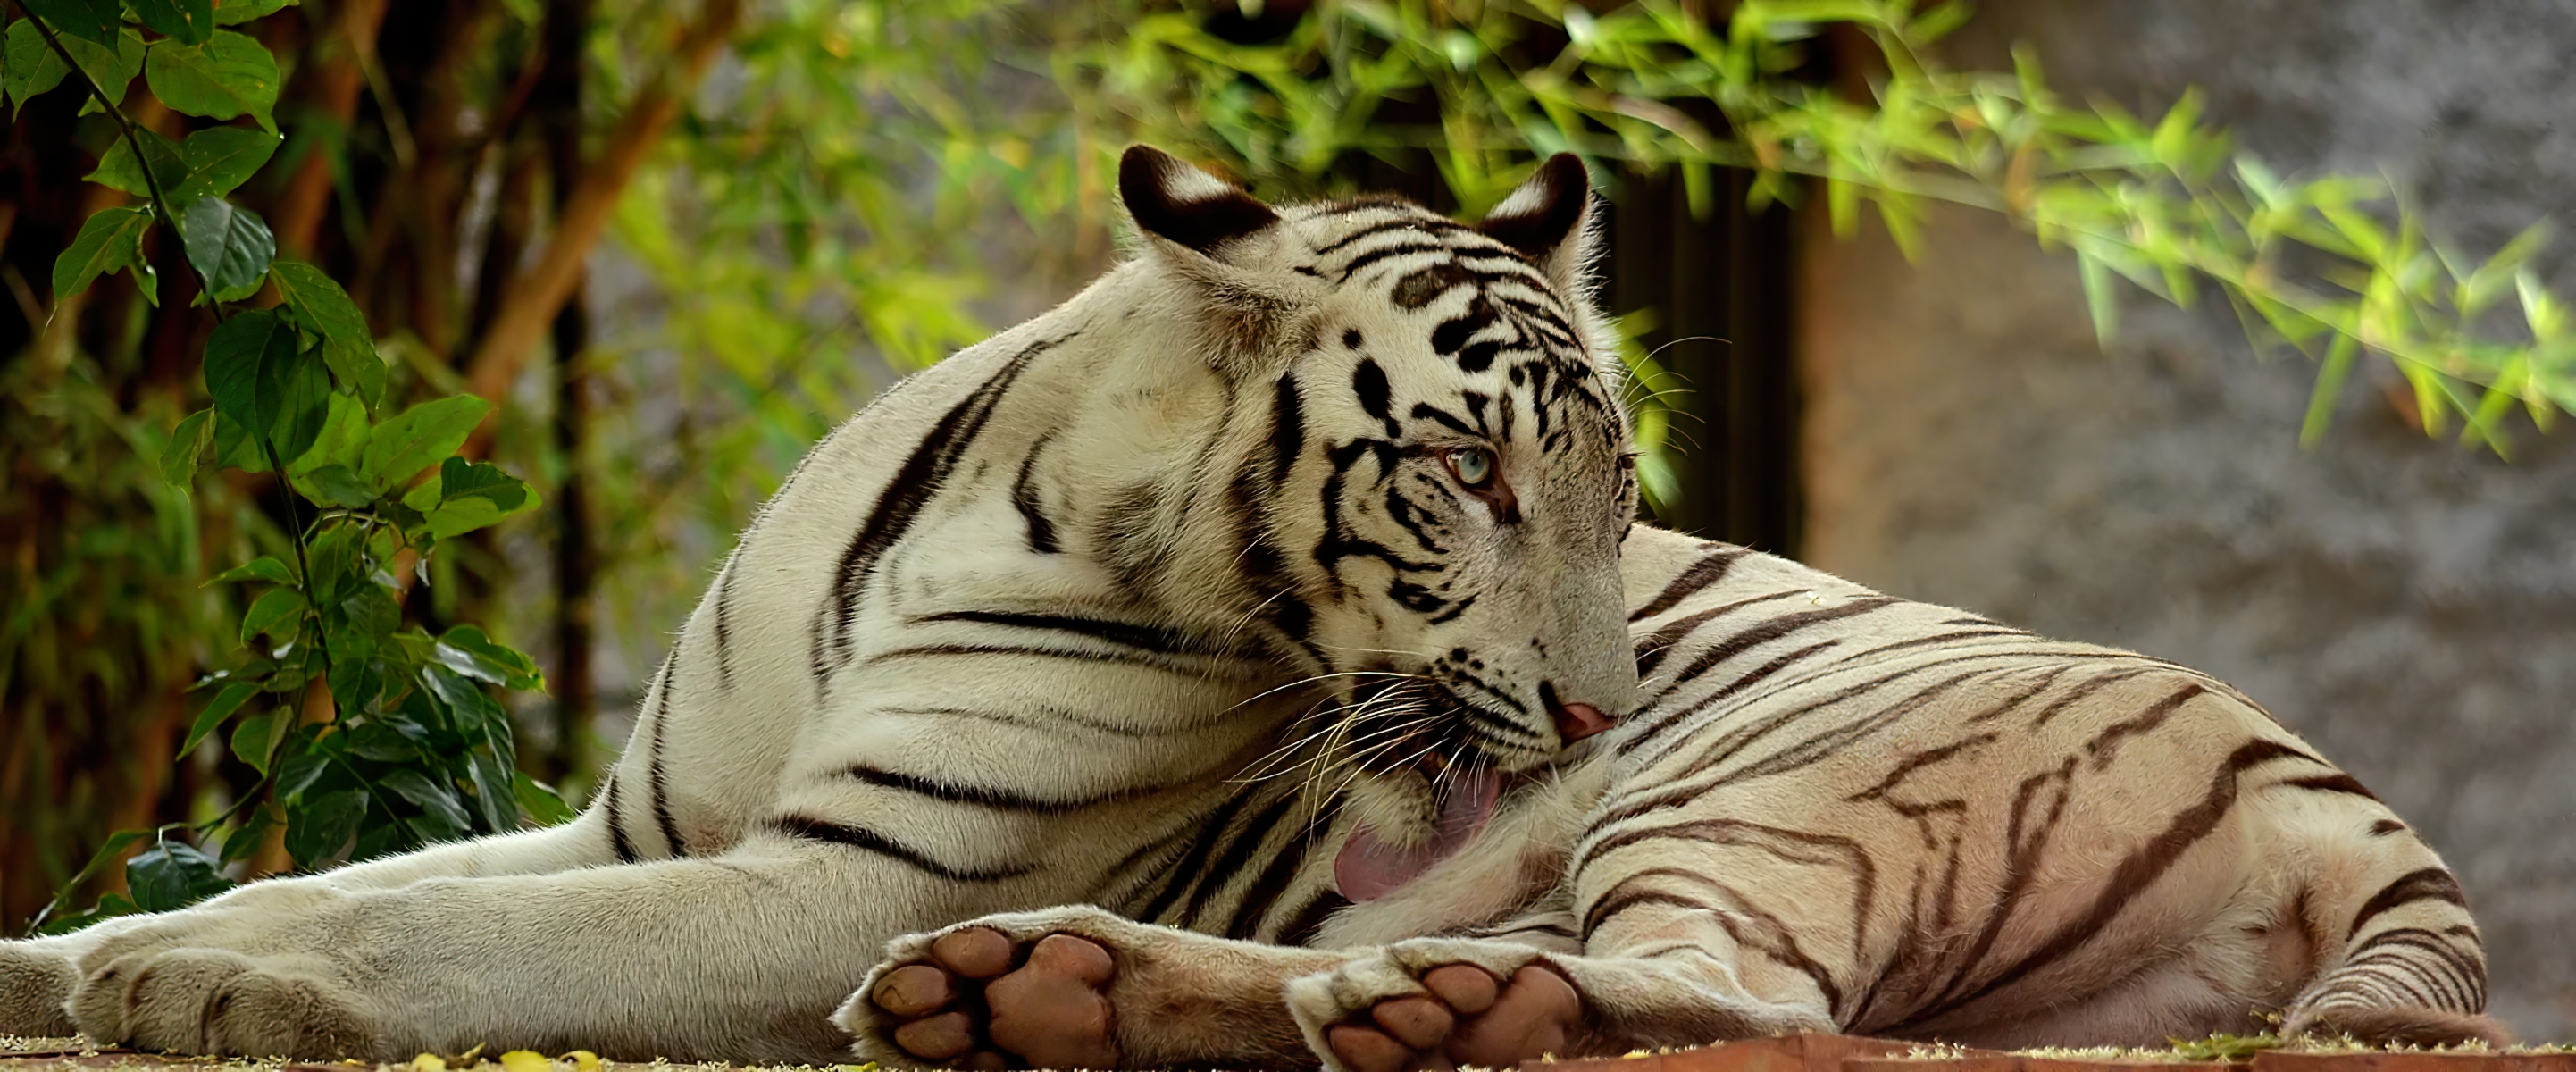tiger: (168, 169, 2497, 1072)
